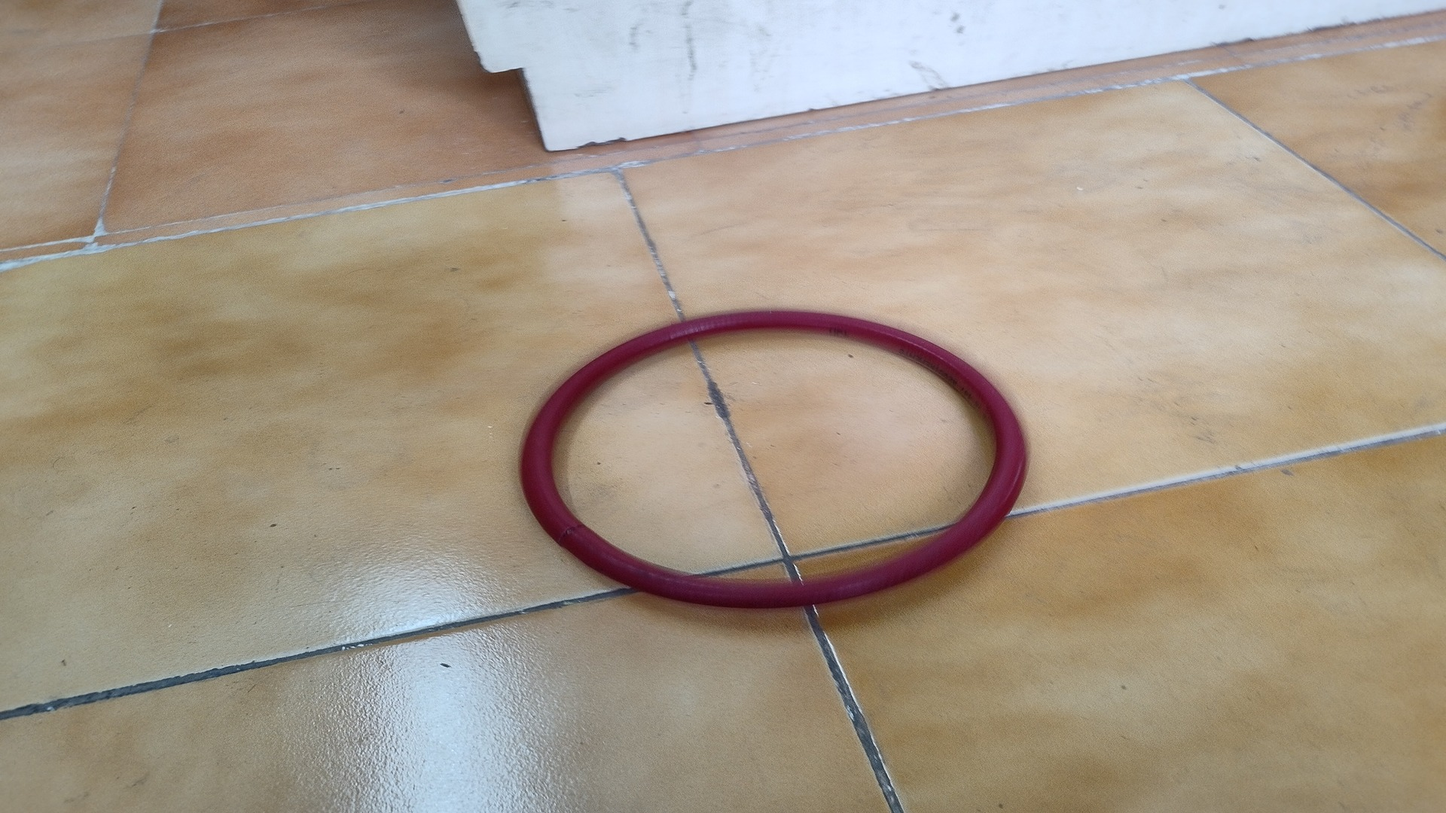Red ring: (517, 311, 1028, 610)
